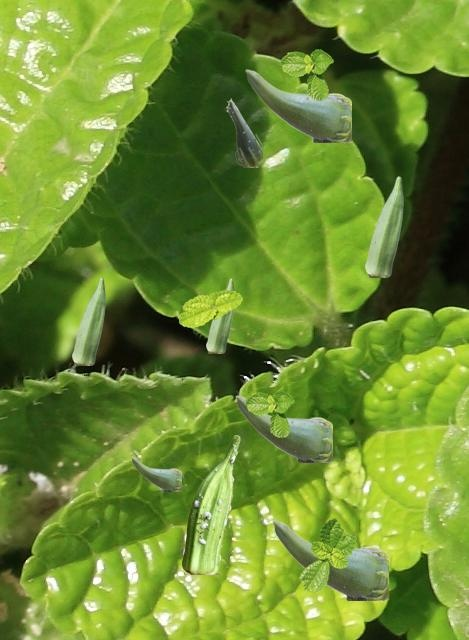okra: (272, 520, 387, 599), (182, 435, 239, 573), (245, 69, 350, 141), (235, 395, 331, 461), (365, 176, 402, 276), (72, 277, 104, 364), (226, 98, 261, 166), (206, 278, 233, 352), (131, 457, 180, 490)
